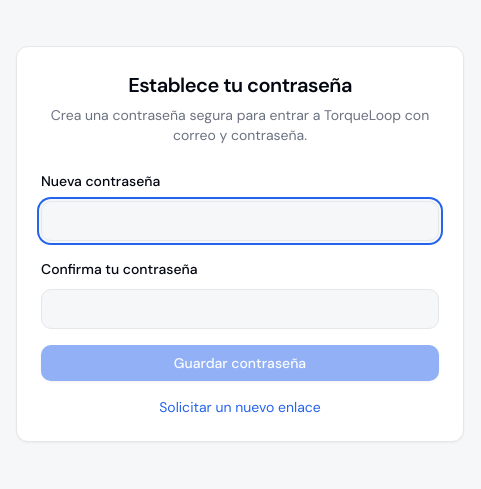
Test: Password recovery forms › requires matching passwords before updating recovery password
The image size is (481, 489).
Type "password123" into the password field labelled "Nueva contraseña" at (240, 221), box [41, 201, 439, 241]
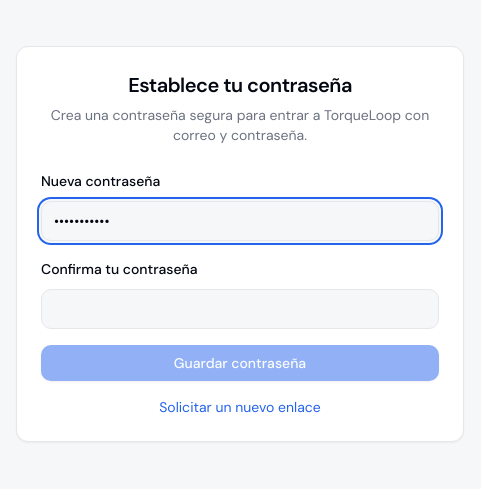
Type "different123" into the password field labelled "Confirma tu contraseña" at (240, 309), box [41, 289, 439, 329]
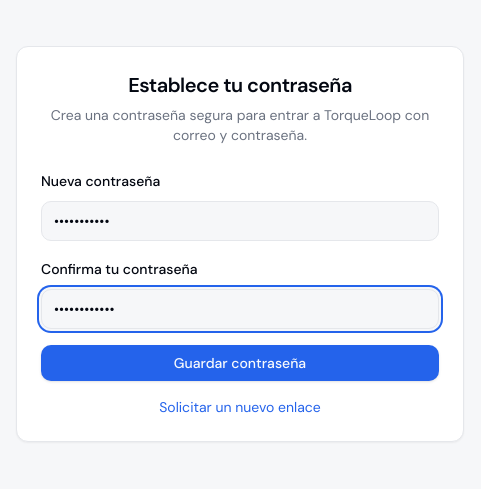
Click the button "Guardar contraseña" at (240, 363), box [41, 345, 439, 381]
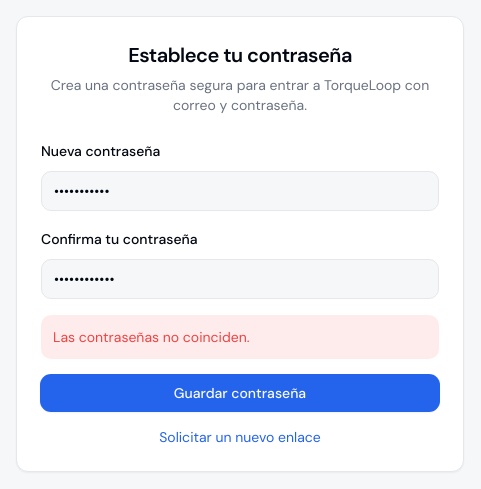
Expected: the text "Las contraseñas no coinciden." is shown, [41, 315, 439, 359]
